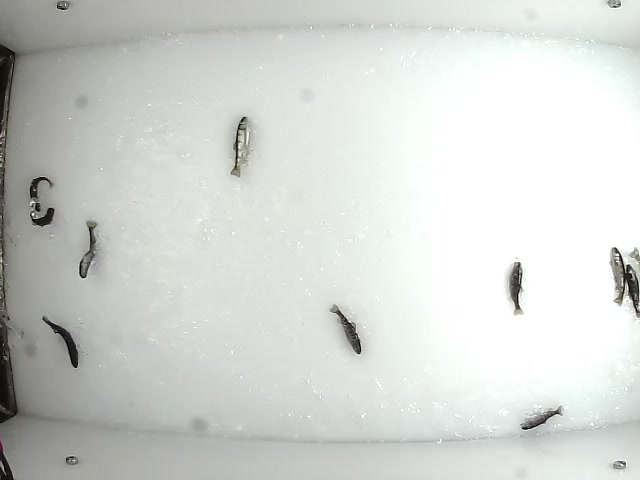fish: (39, 314, 81, 368), (328, 302, 364, 358), (227, 113, 253, 178), (76, 217, 100, 281), (517, 403, 566, 432), (607, 244, 628, 307), (26, 174, 56, 212), (621, 261, 640, 320), (506, 259, 524, 318), (28, 204, 55, 227)
